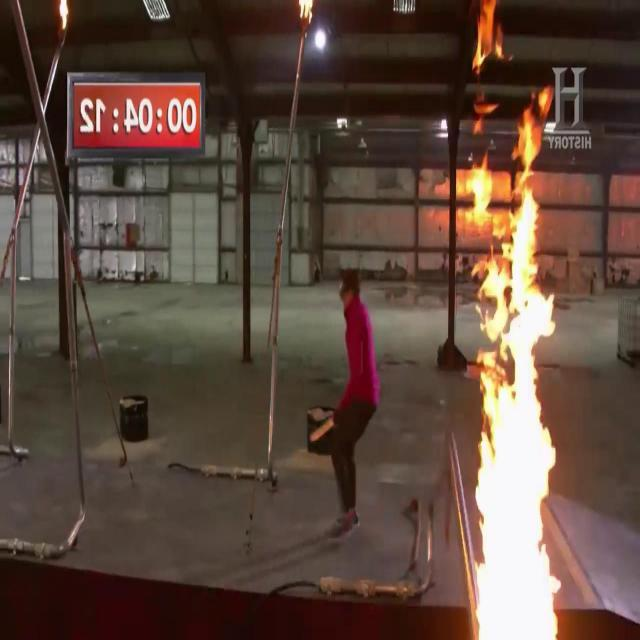Fire: (463, 82, 553, 639), (469, 4, 509, 72)
